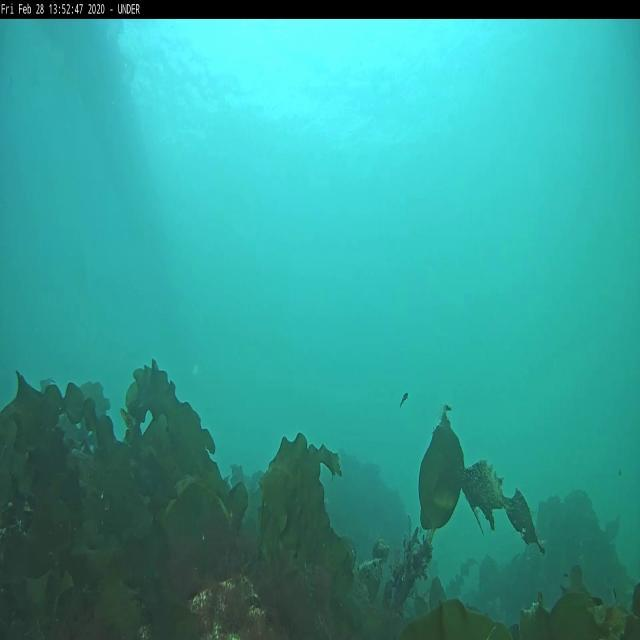fish: (398, 392, 408, 412)
